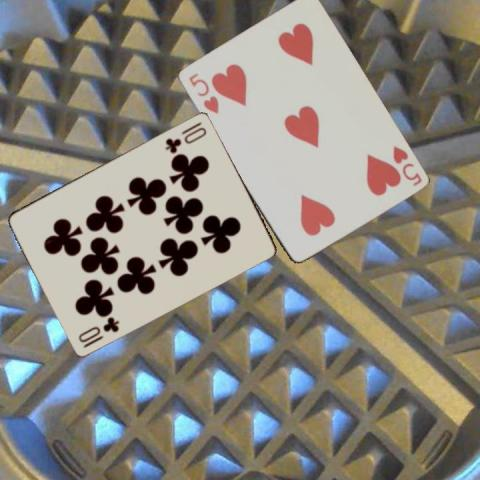10c: (162, 118, 209, 155), (75, 313, 121, 349)
5h: (185, 69, 220, 116), (389, 143, 423, 187)
